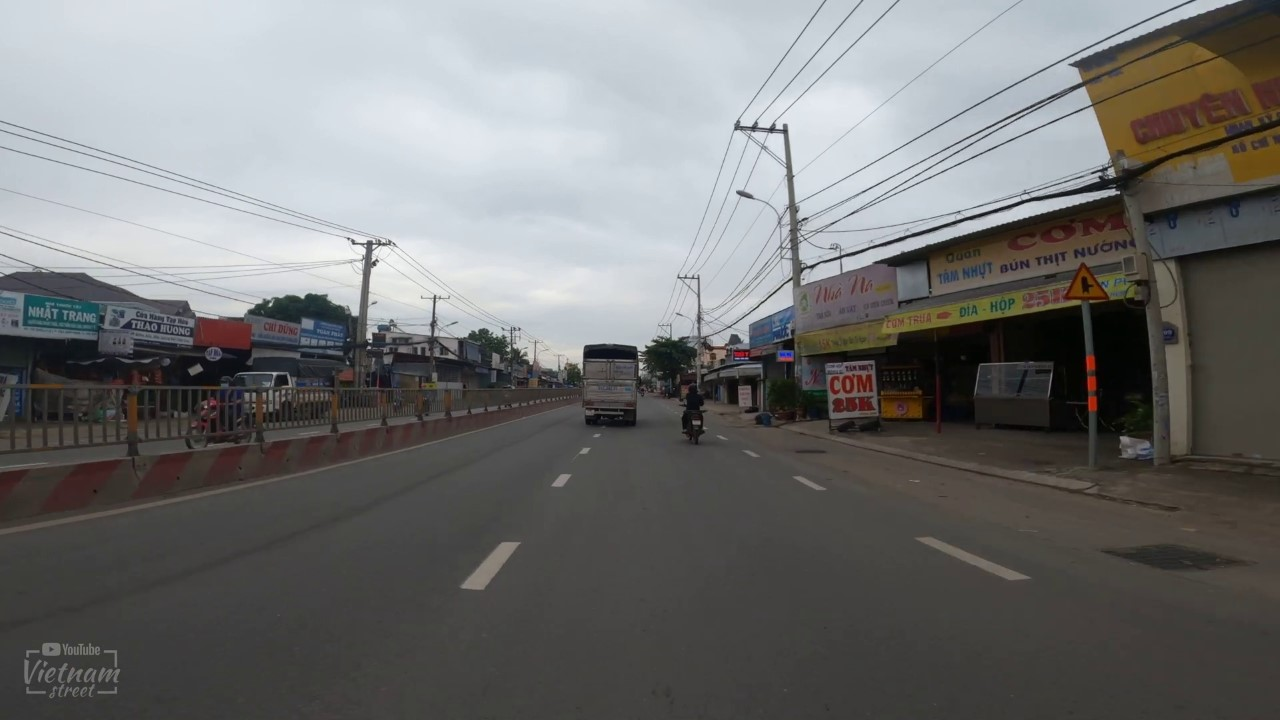giao_khong_uu_tien_phai: (1063, 261, 1110, 301)
